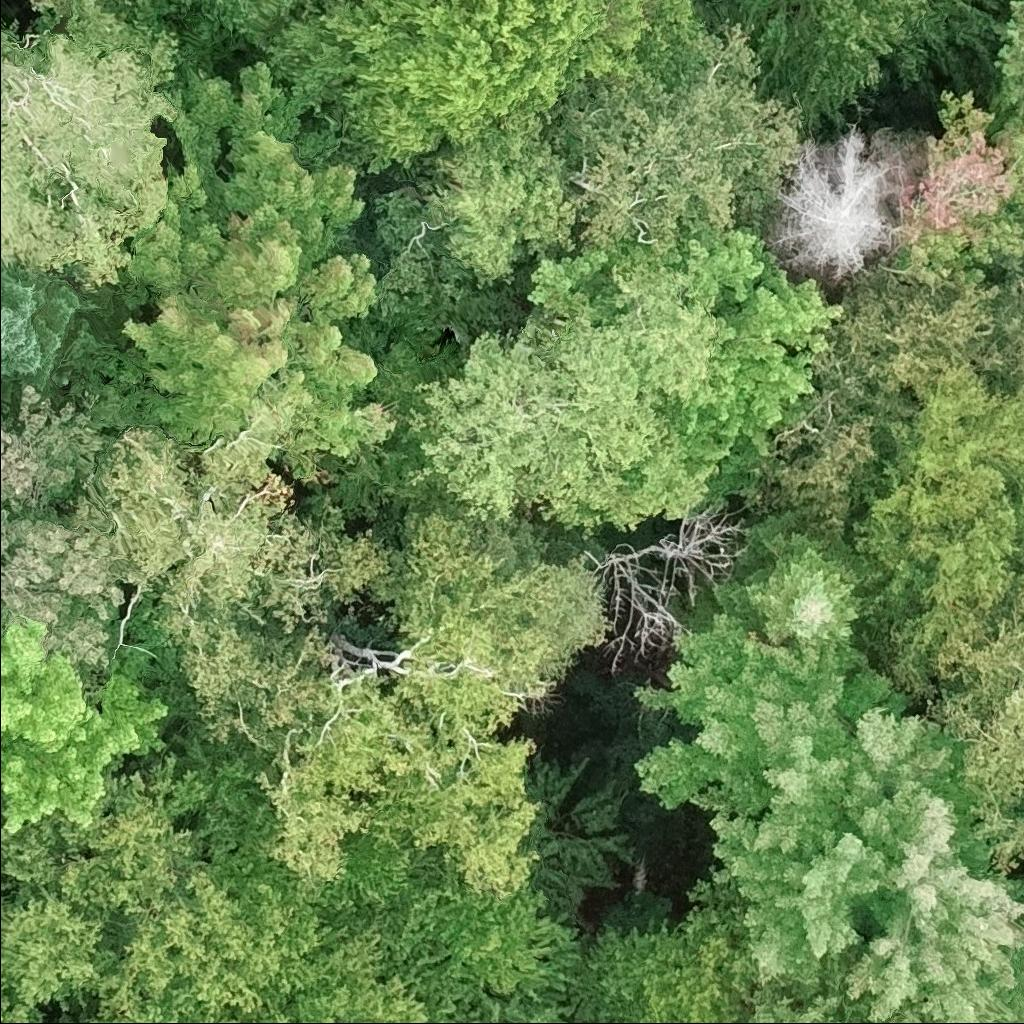crown: (629, 612, 1023, 1023), (256, 497, 611, 900), (67, 62, 399, 485), (72, 429, 395, 751), (312, 751, 636, 1023), (524, 220, 847, 490), (403, 267, 723, 538), (0, 714, 279, 1011), (264, 0, 714, 182), (547, 19, 806, 256), (84, 857, 436, 1023), (0, 0, 185, 286), (852, 361, 1023, 629), (887, 577, 1023, 874), (0, 610, 172, 834), (727, 0, 1009, 130), (811, 258, 1006, 425), (695, 509, 874, 671), (766, 124, 927, 303), (884, 89, 1023, 290), (595, 504, 761, 672), (566, 878, 753, 1023), (420, 125, 580, 294), (0, 506, 138, 698), (759, 388, 892, 535), (0, 382, 121, 513), (0, 264, 97, 414), (109, 0, 322, 51), (984, 0, 1023, 136), (986, 265, 1023, 392), (745, 986, 855, 1023), (0, 995, 48, 1023), (28, 0, 70, 31), (104, 0, 109, 3)
